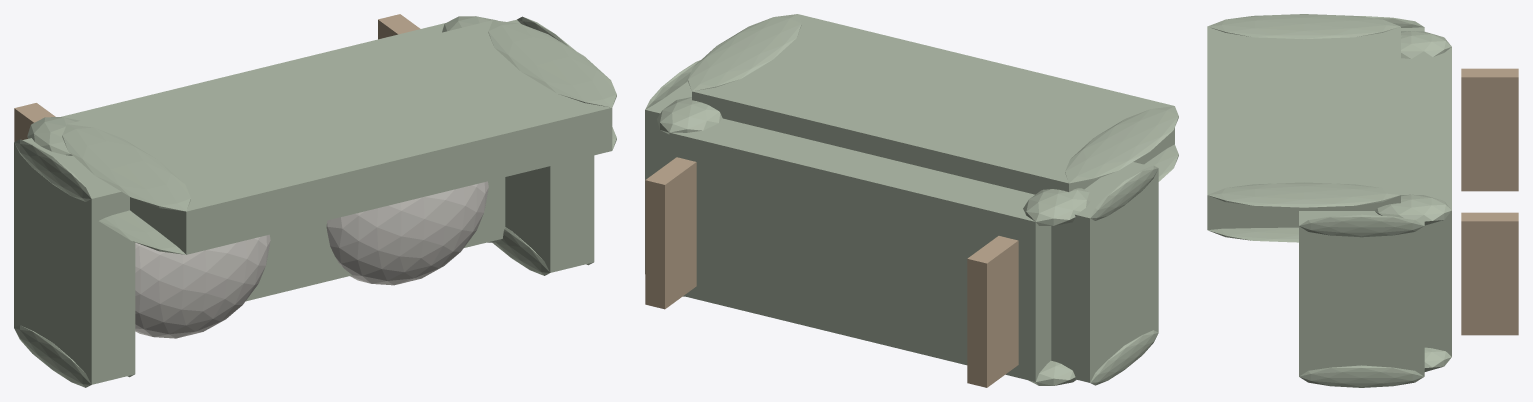
The model's file is sofa.glb.
3 views of the same model, side by side, from view 1: azimuth 30°, elevation 25°; view 2: azimuth 150°, elevation 25°; view 3: azimuth 270°, elevation 25° (orthographic). The views are drawn at different scales.
Parts seen in each view (by area): view 1: back_core, arm_-0.82_core, cushion_0.39, cushion_-0.39, cushion_core, arm_0.82_core, back_corner_-1_1, back_corner_1_1, arm_-0.82_corner_-1_1, arm_-0.82_corner_-1_-1, back_corner_-1_-1, cushion_corner_-1_1 (+3 smaller); view 2: cushion_core, back_core, arm_-0.82_core, foot_0.65, foot_-0.65, back_corner_-1_1, back_corner_1_1, cushion_corner_-1_1, arm_0.82_core, cushion_corner_1_1, arm_-0.82_corner_-1_1, arm_-0.82_corner_-1_-1 (+3 smaller); view 3: back_core, arm_0.82_core, cushion_core, foot_-0.65, foot_0.65, back_corner_1_1, back_corner_-1_1, arm_0.82_corner_1_1, arm_0.82_corner_1_-1, cushion_corner_1_1, cushion_corner_-1_1, back_corner_1_-1 (+2 smaller).
Boxes of the visible parts, left/top/right/bottom form: back_core: left=67, top=20, right=612, bottom=254; arm_-0.82_core: left=14, top=138, right=135, bottom=384; cushion_0.39: left=326, top=181, right=488, bottom=285; cushion_-0.39: left=135, top=234, right=270, bottom=338; cushion_core: left=61, top=23, right=505, bottom=301; arm_0.82_core: left=505, top=19, right=594, bottom=272; back_corner_-1_1: left=62, top=124, right=190, bottom=211; back_corner_1_1: left=488, top=20, right=616, bottom=107; arm_-0.82_corner_-1_1: left=14, top=139, right=91, bottom=201; arm_-0.82_corner_-1_-1: left=14, top=325, right=91, bottom=387; back_corner_-1_-1: left=99, top=210, right=185, bottom=254; cushion_corner_-1_1: left=27, top=117, right=79, bottom=155; cushion_core: left=669, top=118, right=1051, bottom=381; back_core: left=692, top=14, right=1174, bottom=194; arm_-0.82_core: left=1051, top=162, right=1158, bottom=382; foot_0.65: left=645, top=157, right=696, bottom=309; foot_-0.65: left=967, top=236, right=1018, bottom=387; back_corner_-1_1: left=1065, top=106, right=1178, bottom=183; back_corner_1_1: left=688, top=14, right=801, bottom=91; cushion_corner_-1_1: left=1023, top=188, right=1090, bottom=225; arm_0.82_core: left=645, top=81, right=691, bottom=273; cushion_corner_1_1: left=656, top=97, right=722, bottom=134; arm_-0.82_corner_-1_1: left=1090, top=165, right=1158, bottom=220; arm_-0.82_corner_-1_-1: left=1090, top=330, right=1158, bottom=385; back_core: left=1207, top=26, right=1400, bottom=229; arm_0.82_core: left=1299, top=211, right=1424, bottom=376; cushion_core: left=1401, top=47, right=1451, bottom=356; foot_-0.65: left=1461, top=68, right=1518, bottom=191; foot_0.65: left=1461, top=212, right=1518, bottom=335; back_corner_1_1: left=1207, top=182, right=1400, bottom=207; back_corner_-1_1: left=1207, top=14, right=1400, bottom=38; arm_0.82_corner_1_1: left=1299, top=214, right=1423, bottom=237; arm_0.82_corner_1_-1: left=1299, top=365, right=1423, bottom=387; cushion_corner_1_1: left=1375, top=194, right=1451, bottom=225; cushion_corner_-1_1: left=1401, top=31, right=1451, bottom=58; back_corner_1_-1: left=1207, top=227, right=1298, bottom=242.
Size of the model in its own units: 1.82 by 0.785 by 1.19.
